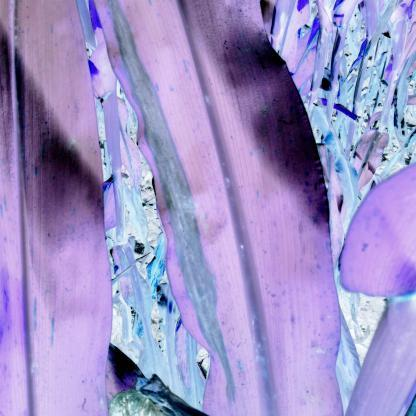Corn leaf blight: (0, 70, 414, 312)
